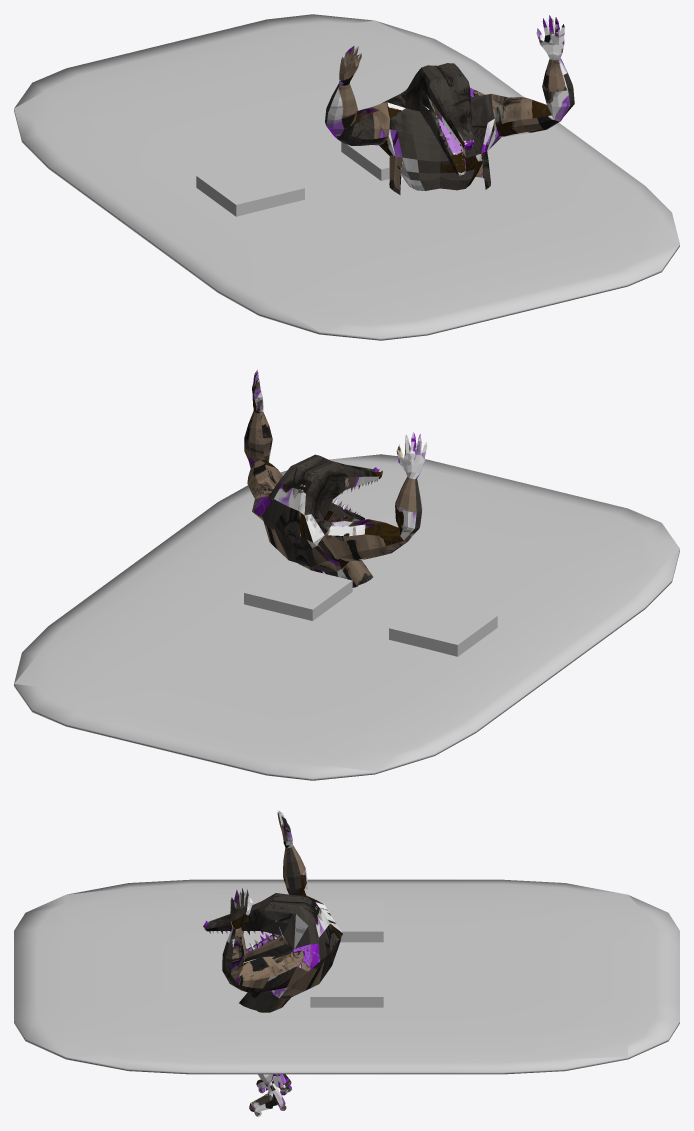
File: cocodrilaBonesSelect_000007.obj
The picture shows the model from 3 angles, top to bottom: view 1: azimuth 30°, elevation 25°; view 2: azimuth 150°, elevation 25°; view 3: azimuth 270°, elevation 25°; orthographic projection. The views are drawn at different scales.
Visible parts, largest first — view 1: Mball, Crocodile.002_Cylinder.002, Cube, Cube.001; view 2: Mball, Crocodile.002_Cylinder.002, Cube, Cube.001; view 3: Mball, Crocodile.002_Cylinder.002, Cube.001, Cube.
Part boxes in pixels (x1=…): Mball: x1=14, y1=14, x2=679, y2=340; Crocodile.002_Cylinder.002: x1=325, y1=15, x2=574, y2=195; Cube: x1=196, y1=159, x2=304, y2=216; Cube.001: x1=341, y1=142, x2=389, y2=180; Mball: x1=14, y1=454, x2=679, y2=780; Crocodile.002_Cylinder.002: x1=244, y1=369, x2=427, y2=587; Cube: x1=389, y1=599, x2=497, y2=656; Cube.001: x1=244, y1=564, x2=352, y2=620; Mball: x1=14, y1=879, x2=679, y2=1074; Crocodile.002_Cylinder.002: x1=203, y1=809, x2=343, y2=1116; Cube.001: x1=310, y1=966, x2=383, y2=1007; Cube: x1=318, y1=901, x2=383, y2=942.
Size of the model in its own units: 12.42 by 7.92 by 18.18.
